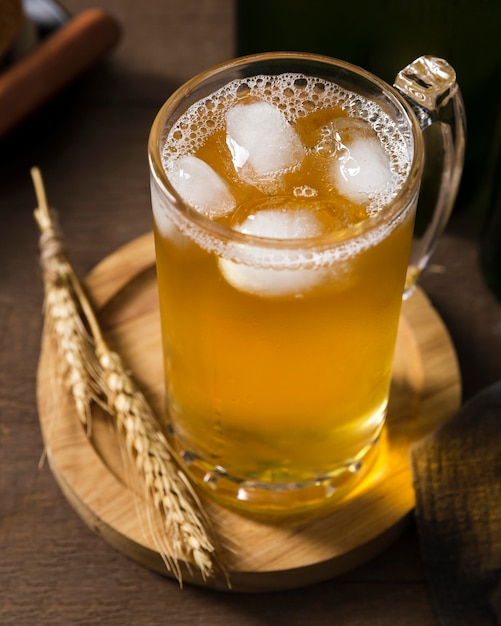alcohol: (143, 44, 466, 521)
